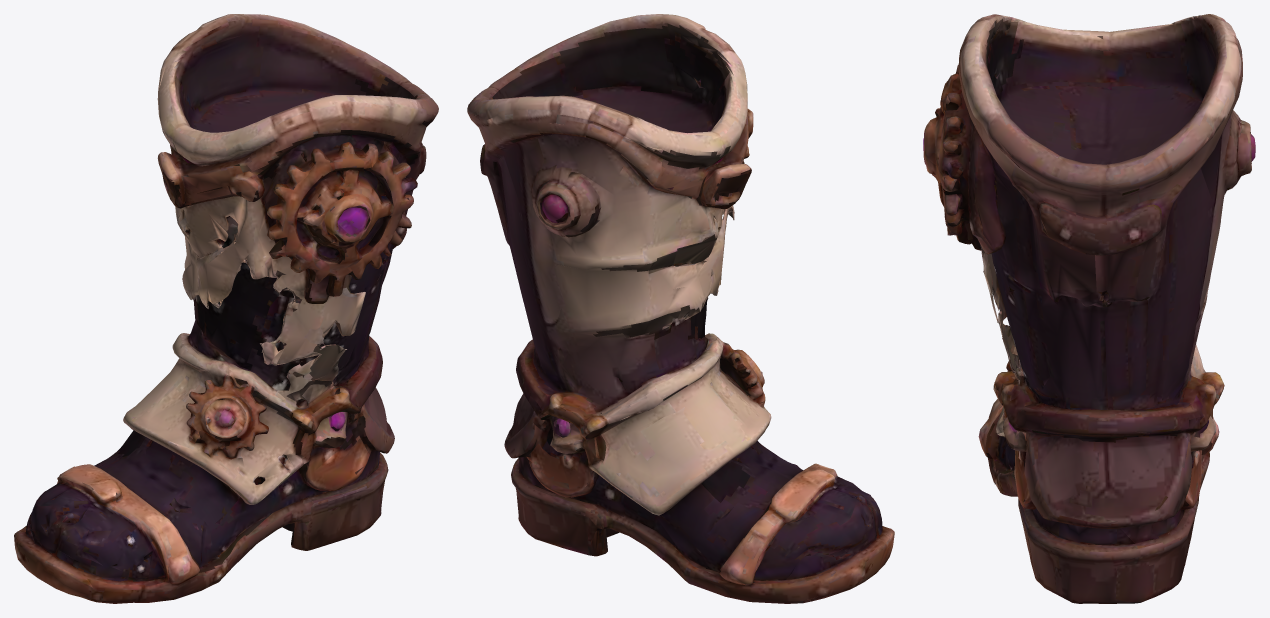
Rendered from tempo-greva.glb.
3 views of the same model, side by side, from view 1: azimuth 30°, elevation 25°; view 2: azimuth 150°, elevation 25°; view 3: azimuth 270°, elevation 25° (orthographic). The views are drawn at different scales.
Visible parts, largest first — view 1: tripo_node_5a6664c4-6780-4a9a-bc4a-946c20016a2e; view 2: tripo_node_5a6664c4-6780-4a9a-bc4a-946c20016a2e; view 3: tripo_node_5a6664c4-6780-4a9a-bc4a-946c20016a2e.
Boxes of the visible parts, x1,y1,x2,y2 form: tripo_node_5a6664c4-6780-4a9a-bc4a-946c20016a2e: (14,14,438,603); tripo_node_5a6664c4-6780-4a9a-bc4a-946c20016a2e: (467,14,894,603); tripo_node_5a6664c4-6780-4a9a-bc4a-946c20016a2e: (923,14,1255,603).
Bounding box in the file's own units: 0.8526 × 0.9795 × 0.5609.
Materials: 1 (1 with a texture image).
